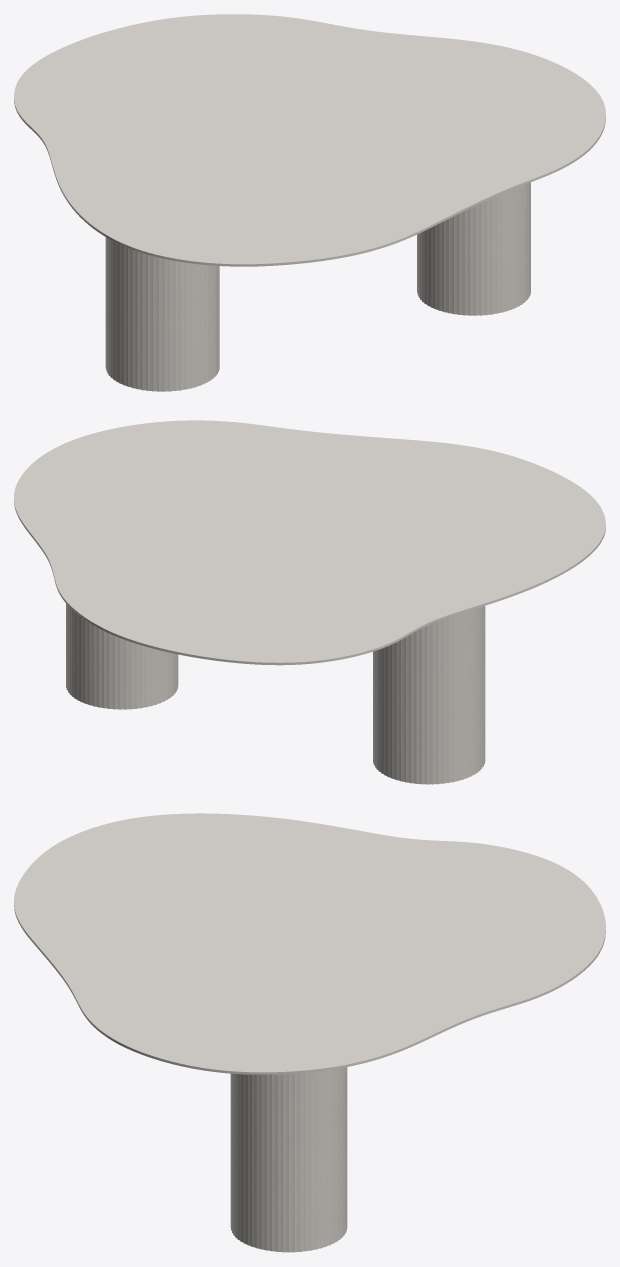
File: pearlwhite_topone_facet_ripplesecond.glb
3 views of the same model, one above another, from view 1: azimuth 30°, elevation 25°; view 2: azimuth 150°, elevation 25°; view 3: azimuth 270°, elevation 25° (orthographic). The views are drawn at different scales.
Parts seen in each view (by area): view 1: facet_topone, ripplesecond; view 2: facet_topone, ripplesecond; view 3: facet_topone, ripplesecond.
Part boxes in pixels (x1=…): facet_topone: x1=14, y1=14, x2=605, y2=266; ripplesecond: x1=105, y1=182, x2=530, y2=391; facet_topone: x1=14, y1=420, x2=605, y2=665; ripplesecond: x1=66, y1=603, x2=485, y2=784; facet_topone: x1=14, y1=813, x2=605, y2=1074; ripplesecond: x1=230, y1=1067, x2=347, y2=1252.
Bounding box in the file's own units: 6.83 × 2.5 × 6.6.
1 material, 1 textured.
